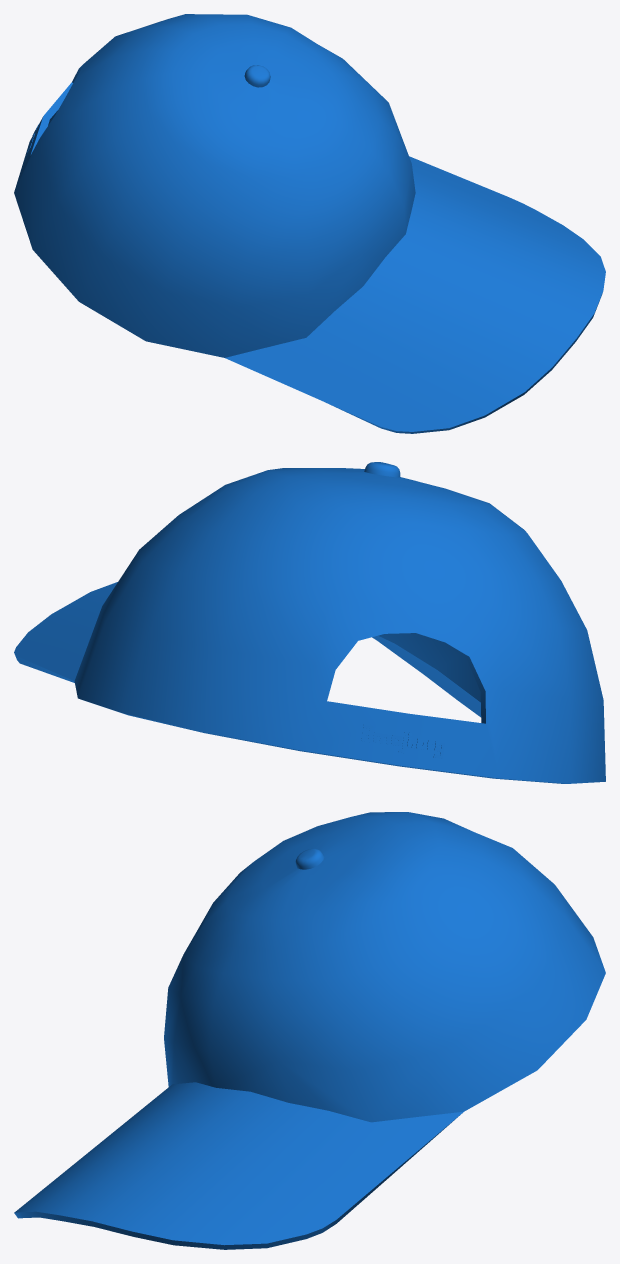
The model's file is billed_cap.glb.
3 views of the same model, one above another, from view 1: azimuth 30°, elevation 25°; view 2: azimuth 150°, elevation 25°; view 3: azimuth 270°, elevation 25° (orthographic). The views are drawn at different scales.
Parts seen in each view (by area): view 1: Circle.1812; view 2: Circle.1812; view 3: Circle.1812.
Boxes of the visible parts, x1,y1,x2,y2 form: Circle.1812: (14,14,605,433); Circle.1812: (14,462,605,783); Circle.1812: (14,812,605,1249).
Bounding box in the file's own units: 2.23 × 1.36 × 2.18.
1 material, 1 textured.
